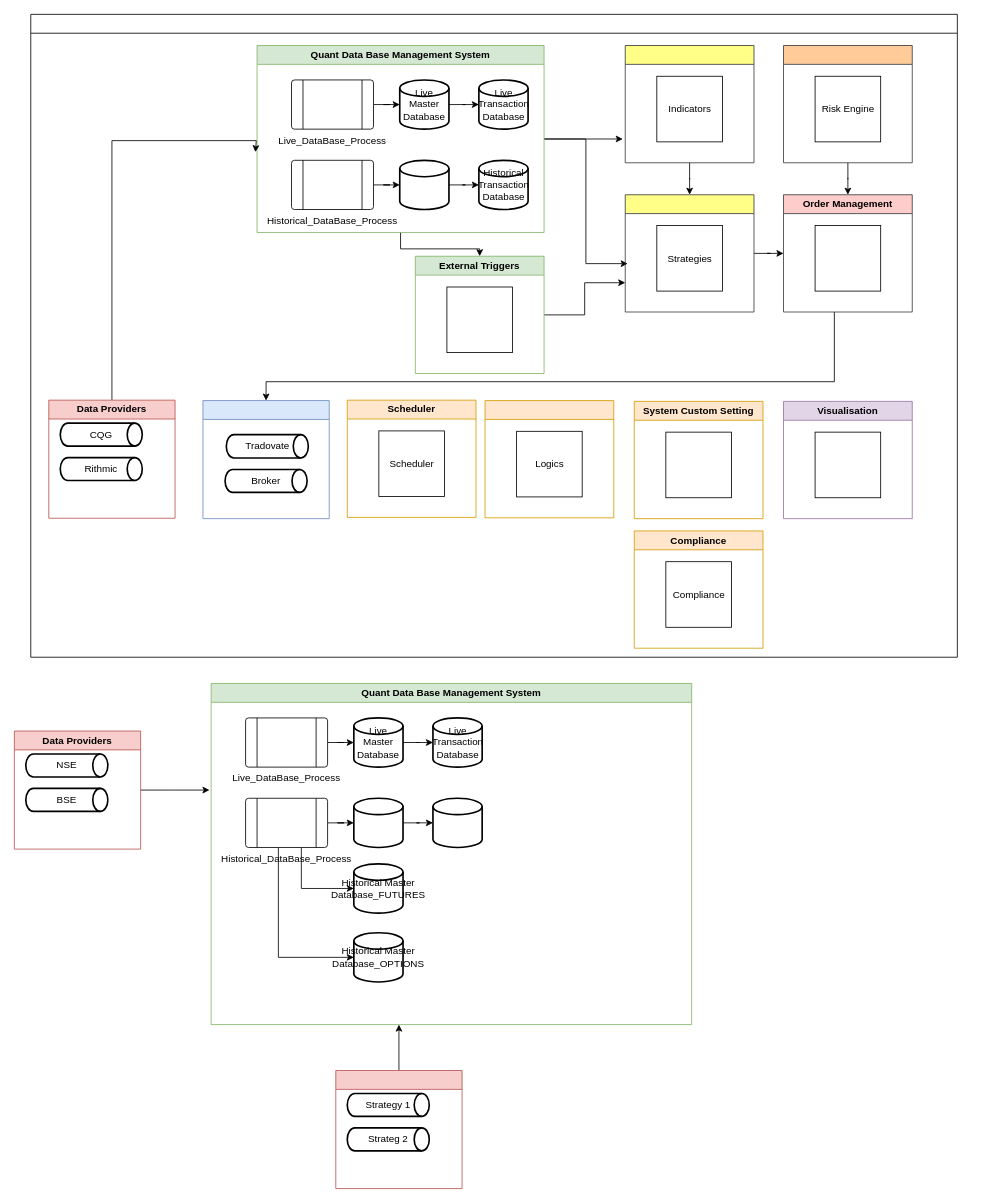
Some shapes in this 1005 by 1203 pixel diagram are drawn without their labels. Here are the shapes that lost their labels. From the top down, the box of each, then its label:
(624, 45, 754, 163): Indicators Library
(783, 45, 912, 163): Risk Management
(399, 159, 449, 210): Historical Master Database
(624, 194, 754, 312): Strategies Library
(814, 225, 881, 291): OM Engine
(446, 286, 512, 353): Blu
(30, 14, 957, 657): Quant Strategy System Architecture
(202, 400, 329, 519): Brokers
(484, 400, 614, 518): Business Logics
(665, 431, 731, 498): Setting
(814, 431, 881, 498): Display
(353, 797, 403, 848): Historical Master Database_EQUITY
(432, 797, 483, 848): Historical Transaction Database_1Hour
(335, 1070, 462, 1189): Python Strategy
